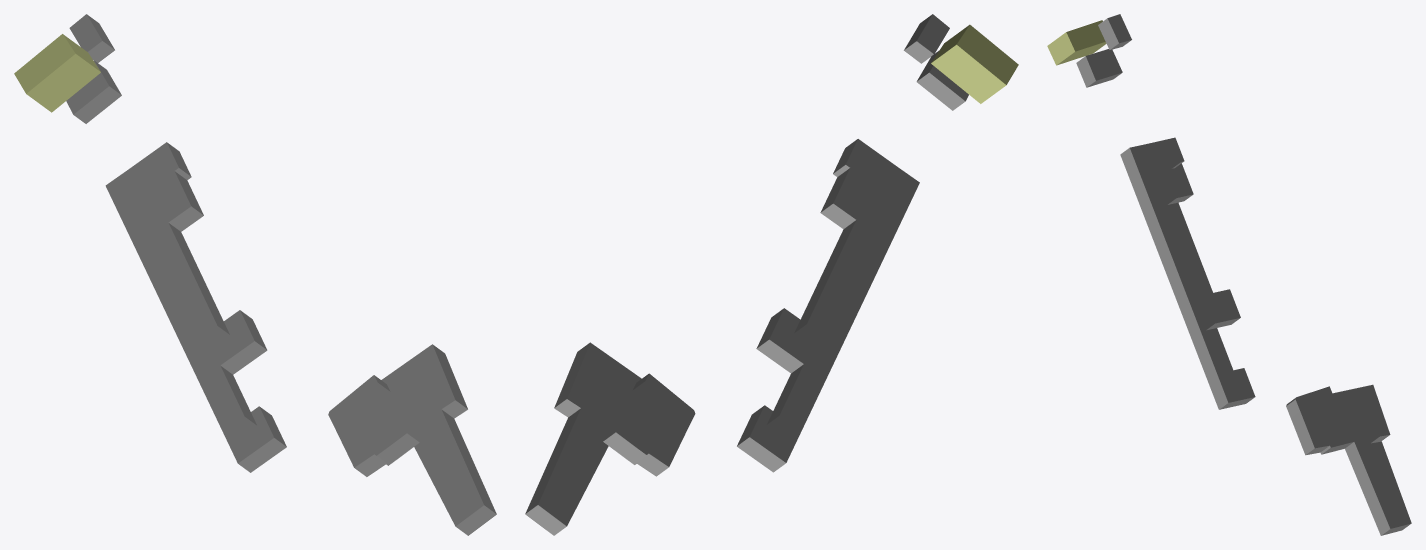
3 views of the same model, side by side, from view 1: azimuth 30°, elevation 25°; view 2: azimuth 150°, elevation 25°; view 3: azimuth 330°, elevation 25° (orthographic). The views are drawn at different scales.
Parts seen in each view (by area): view 1: 0_1_2_0_0_1_2_0; view 2: 0_1_2_0_0_1_2_0; view 3: 0_1_2_0_0_1_2_0.
Part boxes in pixels (bbox=[...]): 0_1_2_0_0_1_2_0: bbox=[14, 14, 496, 535]; 0_1_2_0_0_1_2_0: bbox=[525, 14, 1018, 535]; 0_1_2_0_0_1_2_0: bbox=[1047, 14, 1411, 535].
Bounding box in the file's own units: 63.26 × 77.61 × 6.
